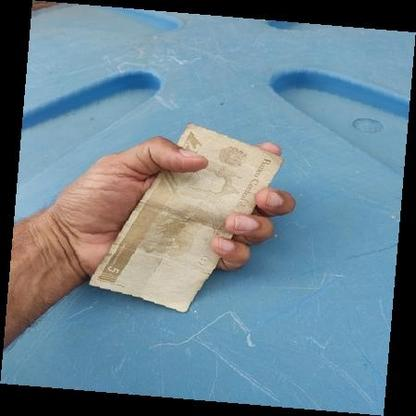five-back-vef: (89, 122, 284, 312)
